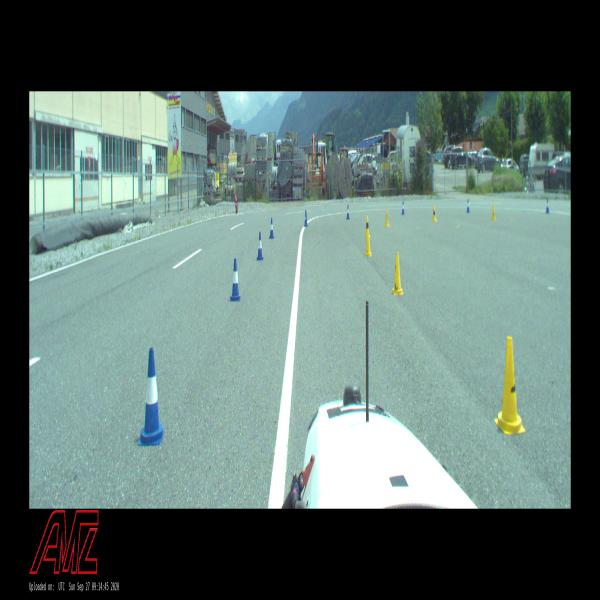blue_cone: (138, 348, 164, 444), (230, 258, 241, 302), (257, 232, 263, 260), (269, 217, 274, 239), (304, 209, 308, 227), (346, 204, 350, 219), (466, 199, 470, 212), (546, 197, 549, 213), (402, 201, 404, 214)
yellow_cone: (495, 337, 525, 434), (392, 252, 403, 295), (364, 229, 372, 256), (364, 216, 371, 238), (384, 209, 389, 227), (432, 205, 437, 222), (491, 203, 496, 220)
